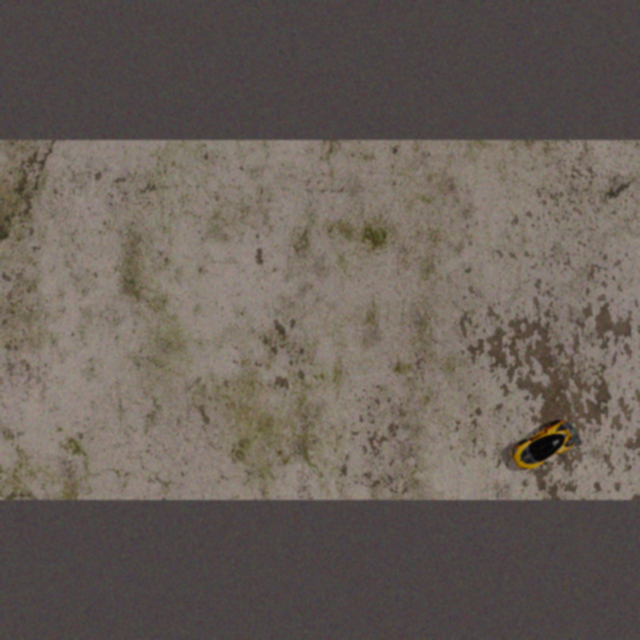car: (506, 414, 585, 477)
